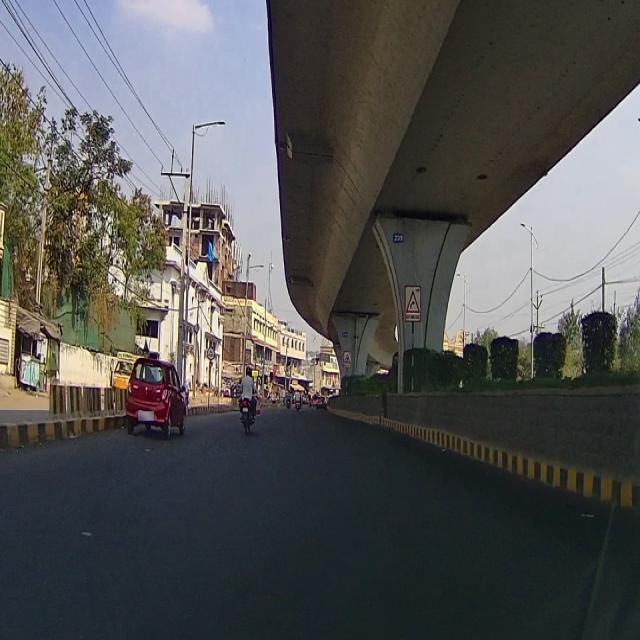right-hand-curve: (405, 286, 420, 320)
